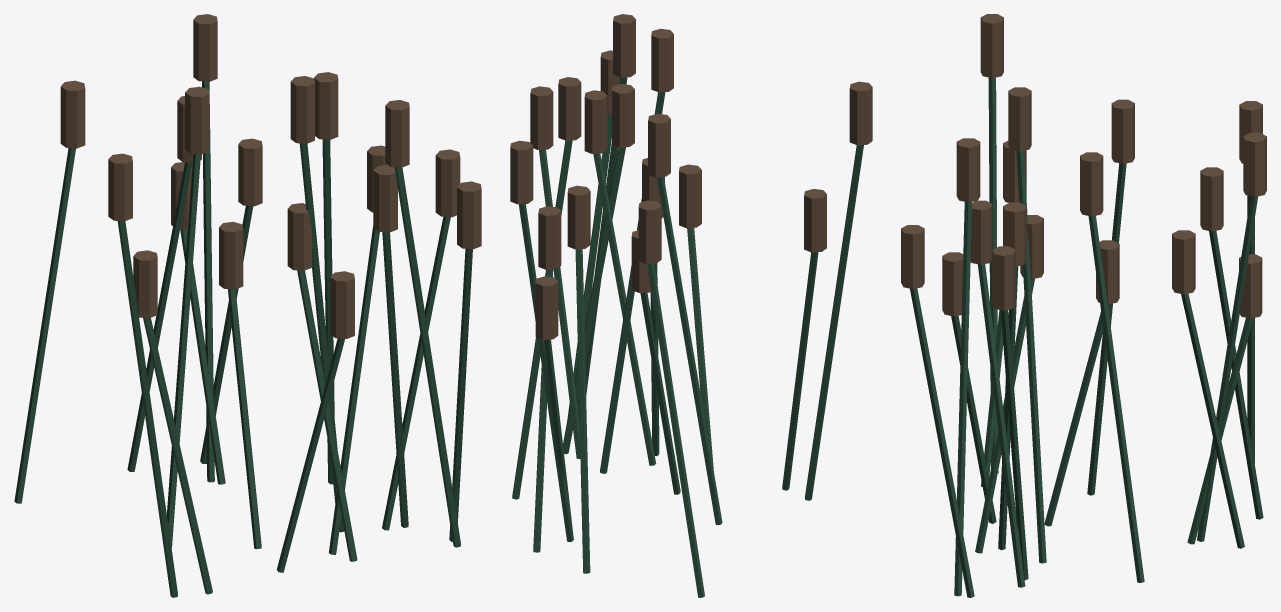
File: vegetation-reeds.lod0.glb
The picture shows the model from 3 angles, left to right: view 1: azimuth 30°, elevation 25°; view 2: azimuth 150°, elevation 25°; view 3: azimuth 270°, elevation 25°; orthographic projection. The views are drawn at different scales.
Parts seen in each view (by area): view 1: vegetation-reeds__body; view 2: vegetation-reeds__body; view 3: vegetation-reeds__body.
Part boxes in pixels (box(x1,y1,x2,y2)): vegetation-reeds__body: box(14, 14, 481, 597); vegetation-reeds__body: box(510, 14, 872, 597); vegetation-reeds__body: box(901, 14, 1266, 597).
Bounding box in the file's own units: 1.29 × 1.64 × 1.21.
